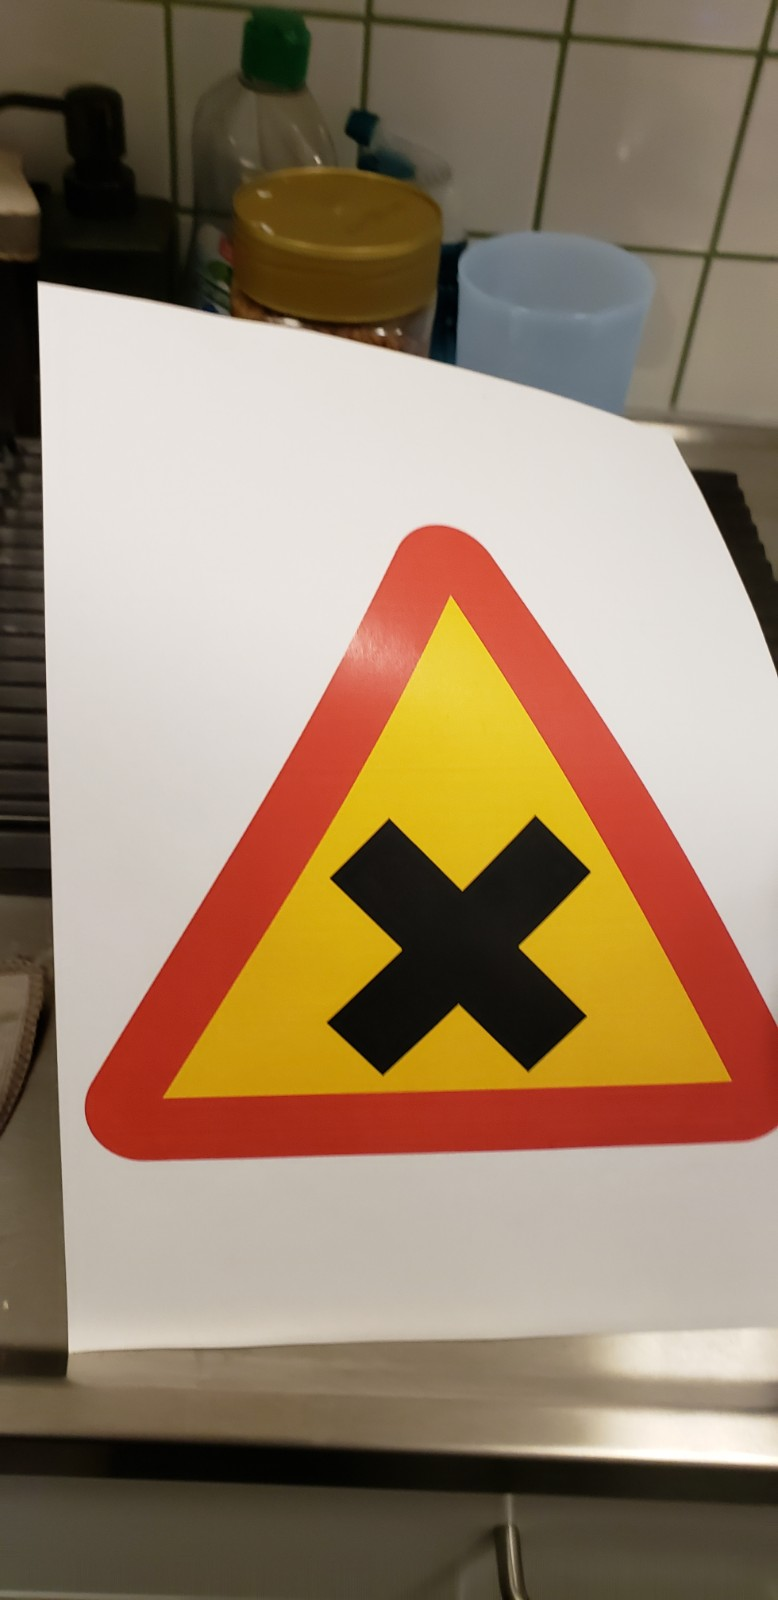junction: (95, 495, 778, 1171)
